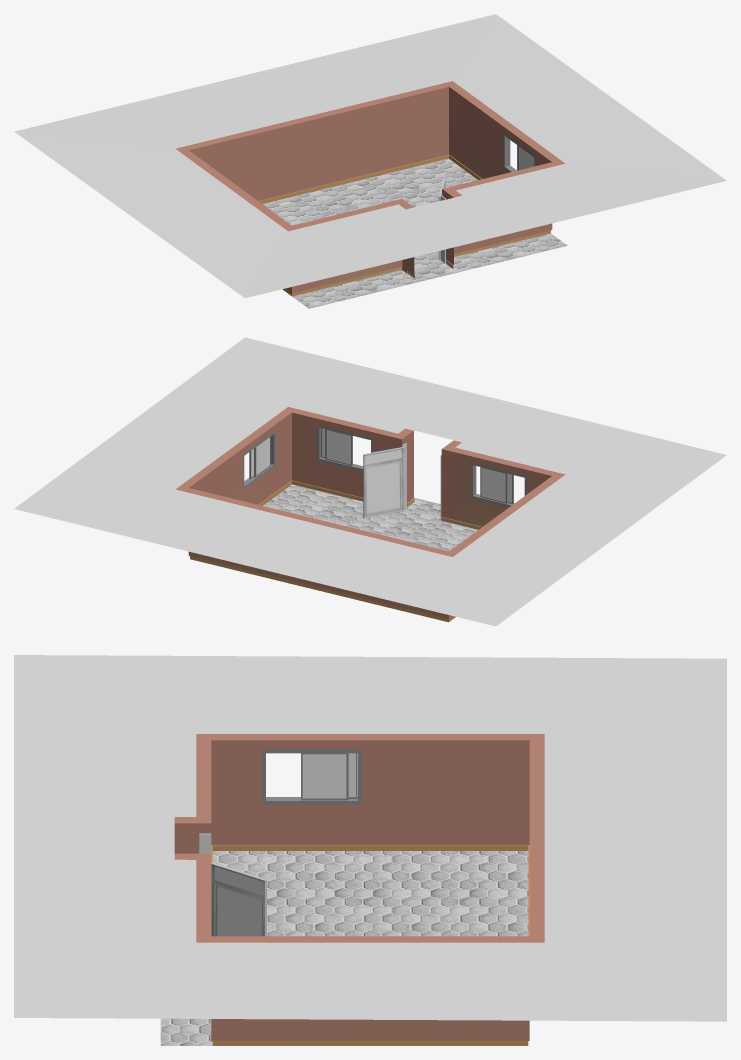
Rendered from Tienda.FBX.
3 renders of one model, top to bottom at view 1: azimuth 30°, elevation 25°; view 2: azimuth 150°, elevation 25°; view 3: azimuth 270°, elevation 25°, orthographic. The views are drawn at different scales.
Parts seen in each view (by area): view 1: Vacio, Paredes, Piso, Ventana; view 2: Vacio, Paredes, Piso, Ventana, Puerta; view 3: Vacio, Paredes, Piso, Ventana, Puerta.
Boxes of the visible parts, x1,y1,x2,y2 form: Vacio: (14,14,726,298); Paredes: (176,81,564,296); Piso: (262,158,567,308); Ventana: (503,133,535,172); Vacio: (14,337,726,626); Paredes: (175,407,565,622); Piso: (263,484,478,551); Ventana: (243,425,526,507); Puerta: (363,447,404,518); Vacio: (14,655,726,1021); Paredes: (174,734,544,1045); Piso: (160,851,528,1045); Ventana: (262,749,361,804); Puerta: (211,862,266,936).
Size of the model in its own units: 2120 by 1760 by 305.
